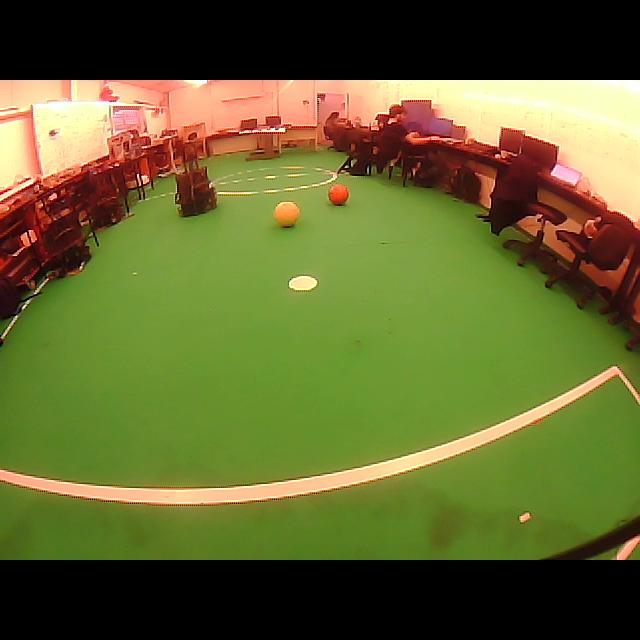ball: (274, 202, 300, 228), (328, 184, 349, 205)
robot: (175, 166, 216, 216)
